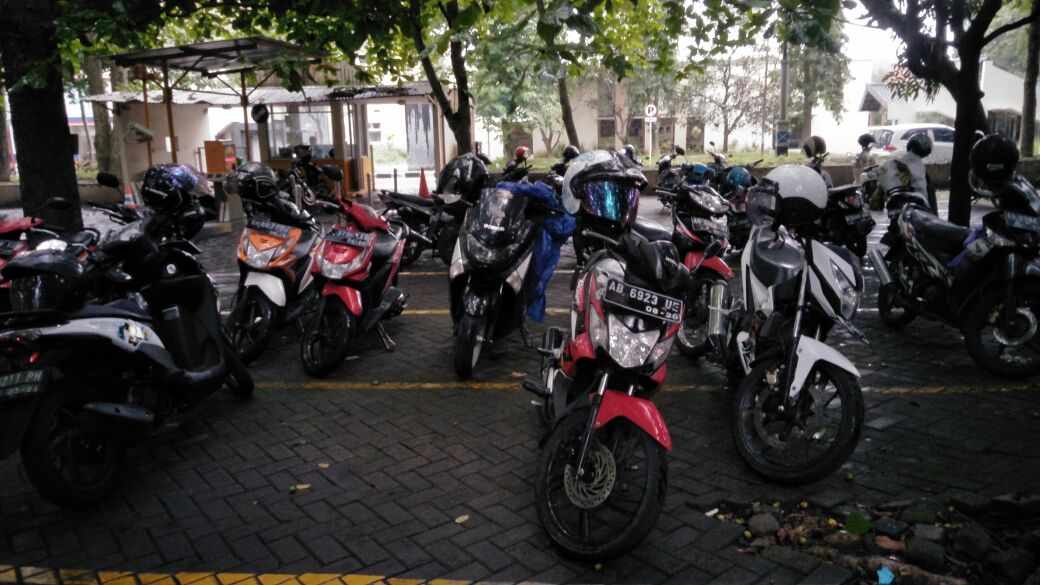plate: (603, 277, 683, 324), (323, 227, 369, 248)
